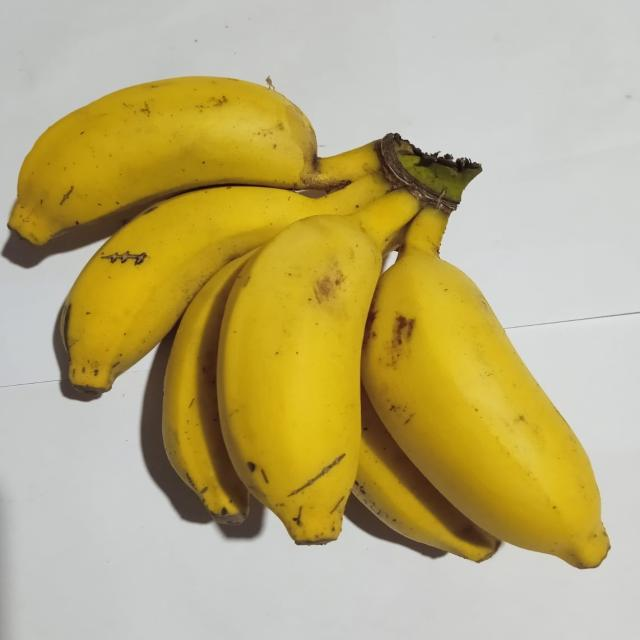banana: (217, 150, 450, 544), (362, 208, 609, 567), (217, 190, 419, 544), (62, 173, 388, 392), (9, 77, 377, 244), (352, 389, 499, 561), (162, 253, 252, 523)
